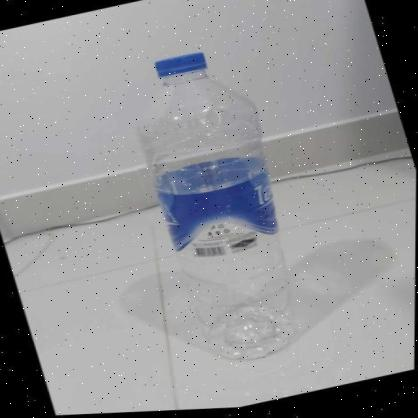bottle: (133, 50, 300, 358)
cap: (152, 52, 206, 79)
label: (154, 160, 286, 260)
